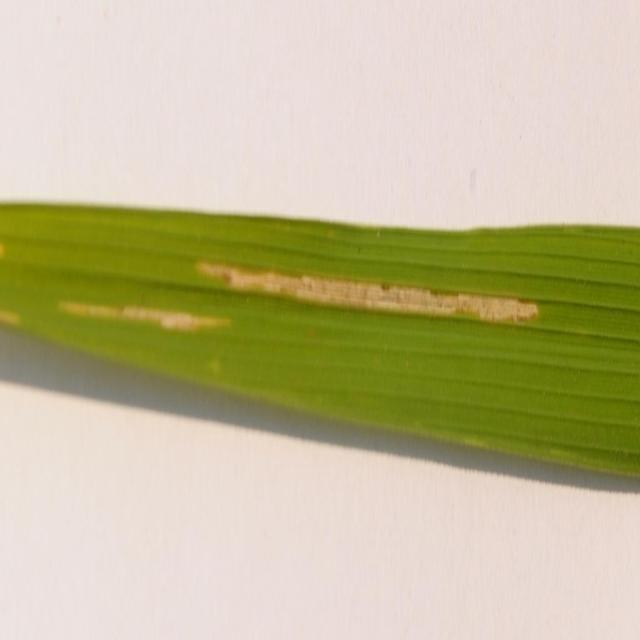Bacterial_Leaf_Blight: (190, 240, 556, 358), (52, 274, 256, 381)
